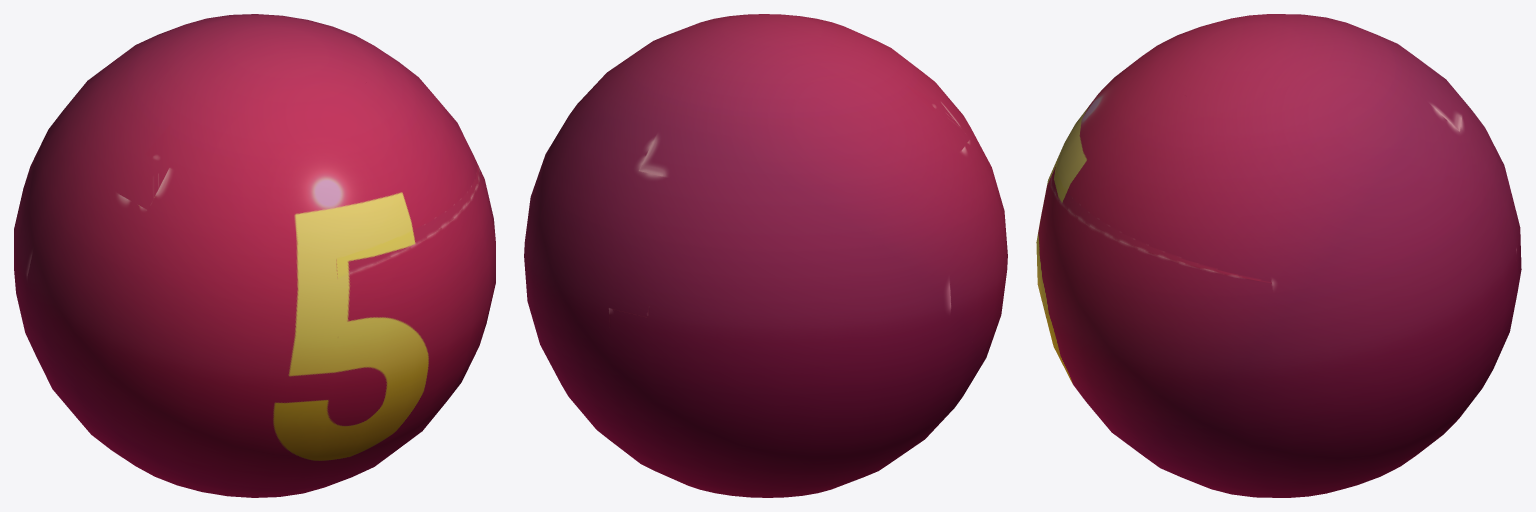
File: Enemy 5.fbx
The picture shows the model from 3 angles, left to right: view 1: azimuth 30°, elevation 25°; view 2: azimuth 150°, elevation 25°; view 3: azimuth 270°, elevation 25°; orthographic projection.
Parts seen in each view (by area): view 1: Body 1.004; view 2: Body 1.004; view 3: Body 1.004.
Boxes of the visible parts, x1,y1,x2,y2 form: Body 1.004: (14,14,495,497); Body 1.004: (524,14,1007,497); Body 1.004: (1036,14,1521,497).
Size of the model in its own units: 474 by 474 by 474.
1 material, 1 textured.
